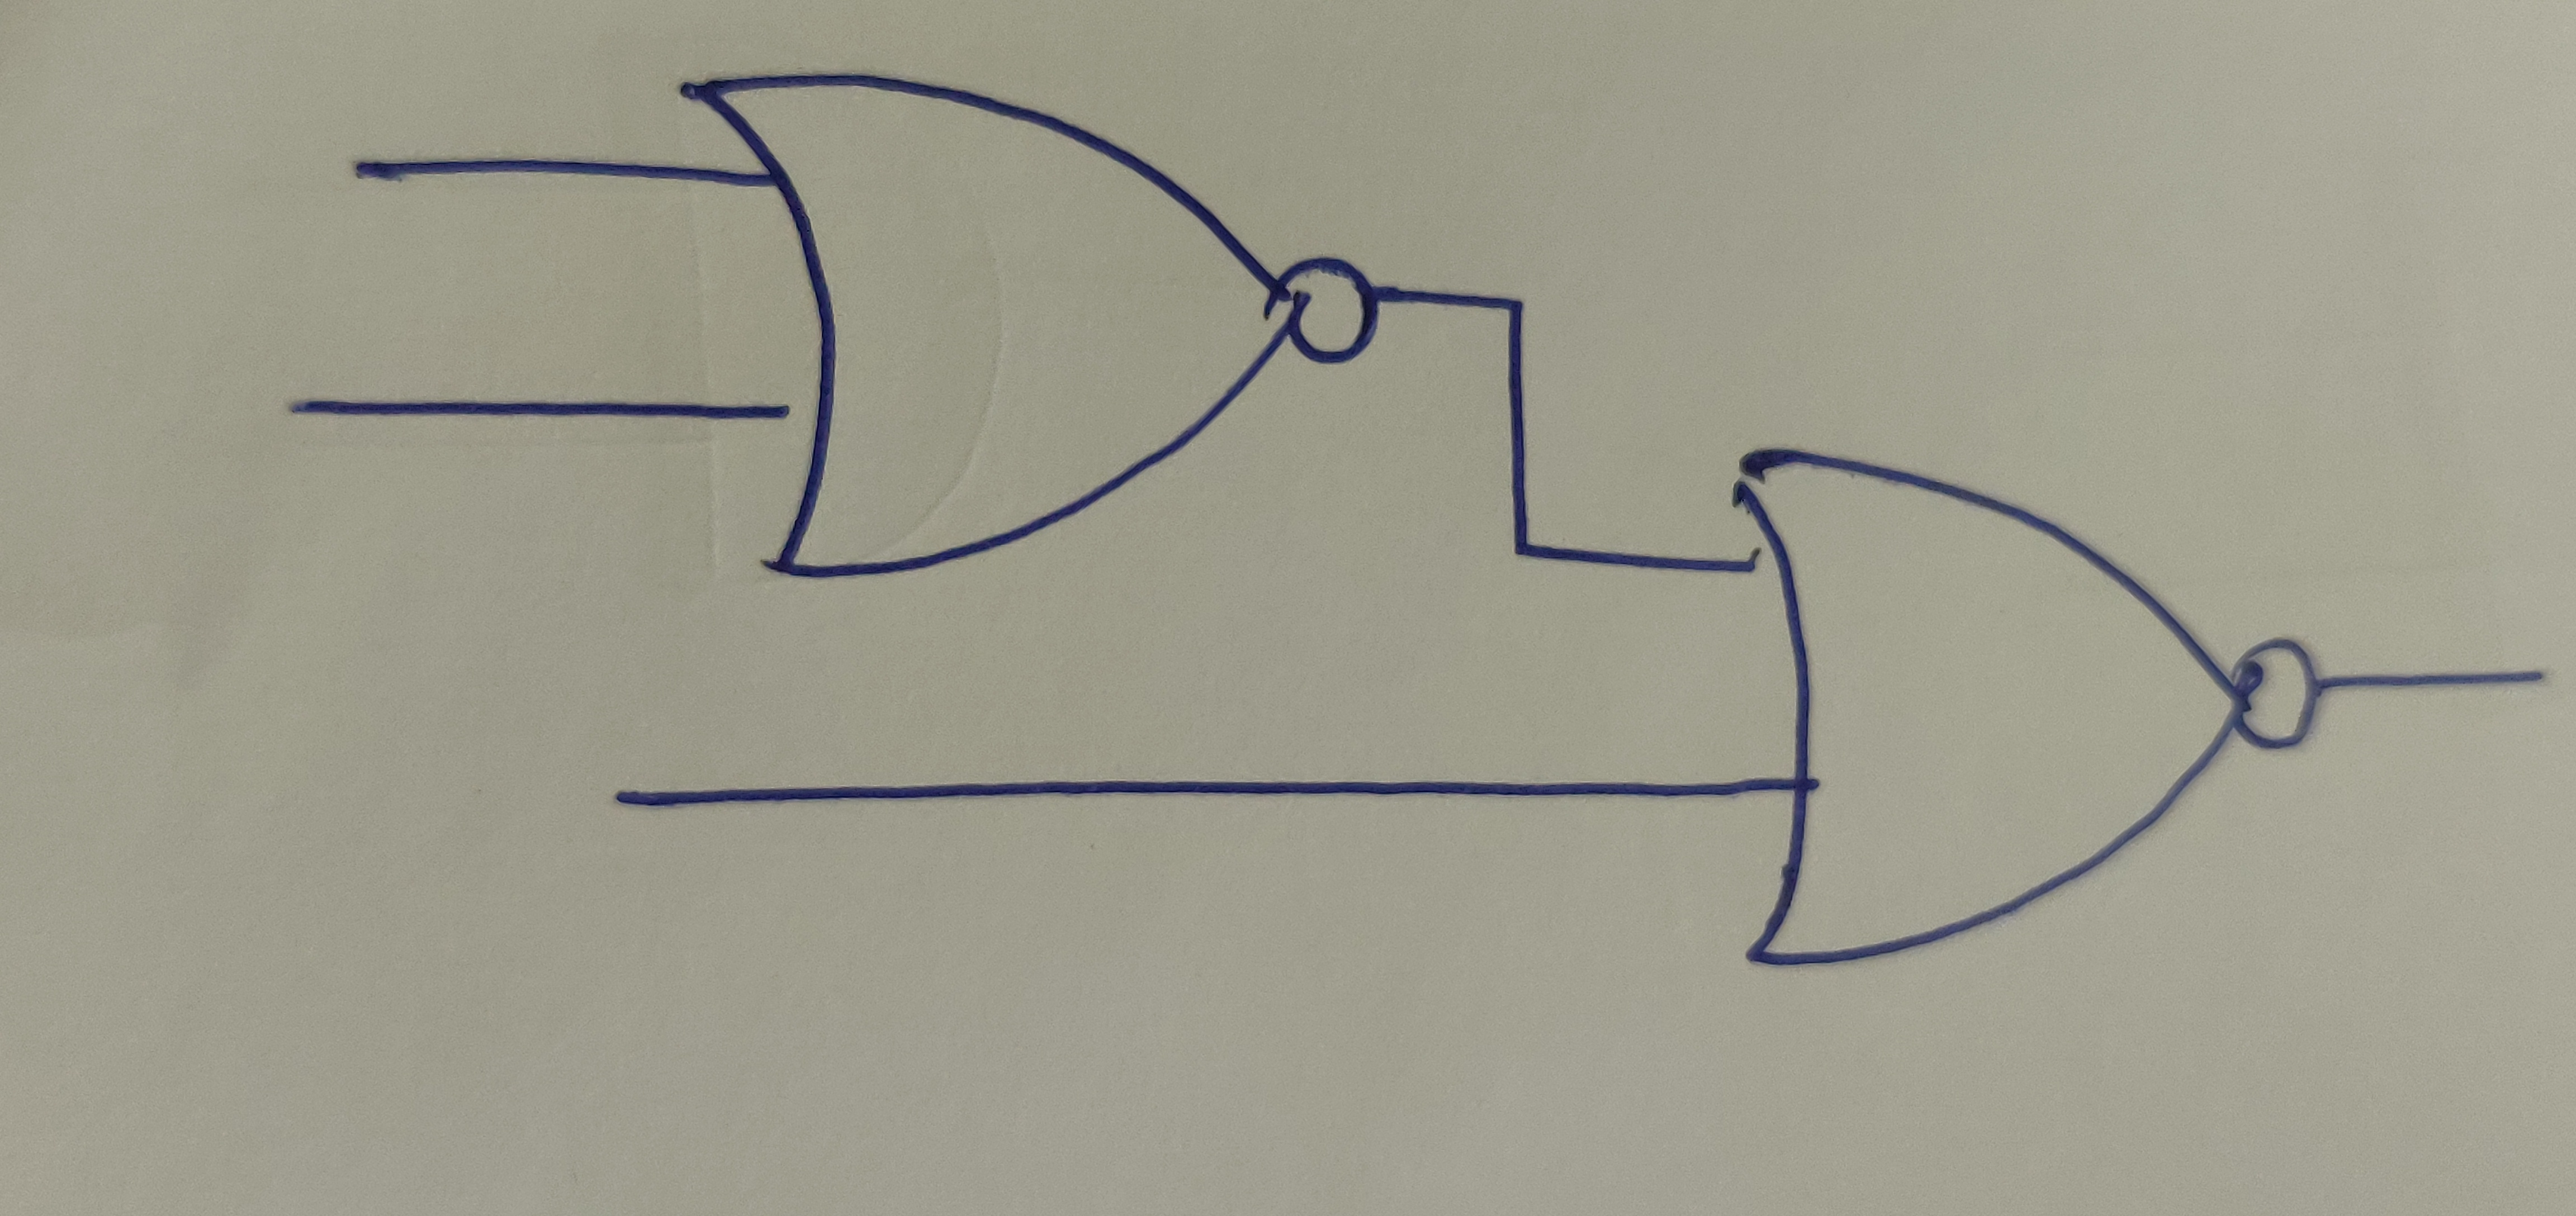not: (1268, 255, 1387, 366), (2224, 634, 2326, 756)
or: (677, 66, 1306, 582), (1725, 450, 2239, 970)
